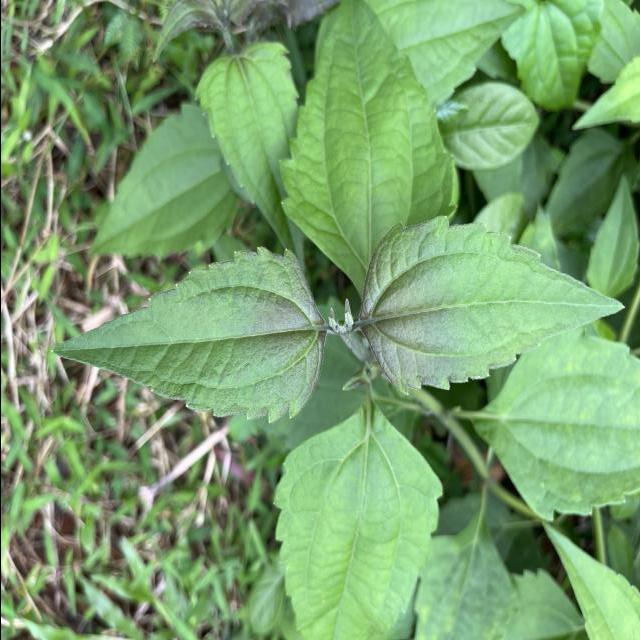Chromolaena odorata: (47, 239, 330, 429), (354, 208, 630, 400)
